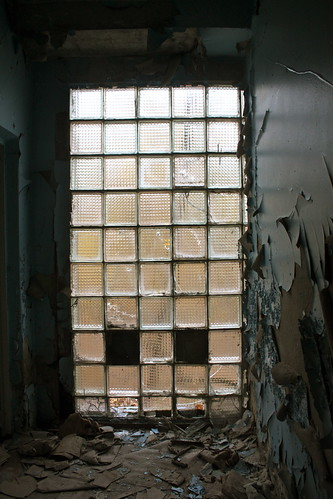wall: (254, 1, 333, 473)
window: (70, 86, 253, 422)
